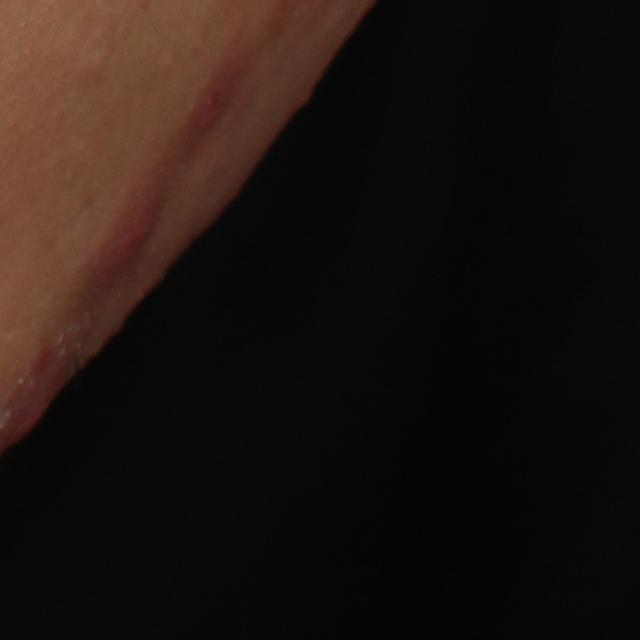papule: (87, 184, 174, 293), (4, 357, 67, 449), (189, 83, 237, 138)
